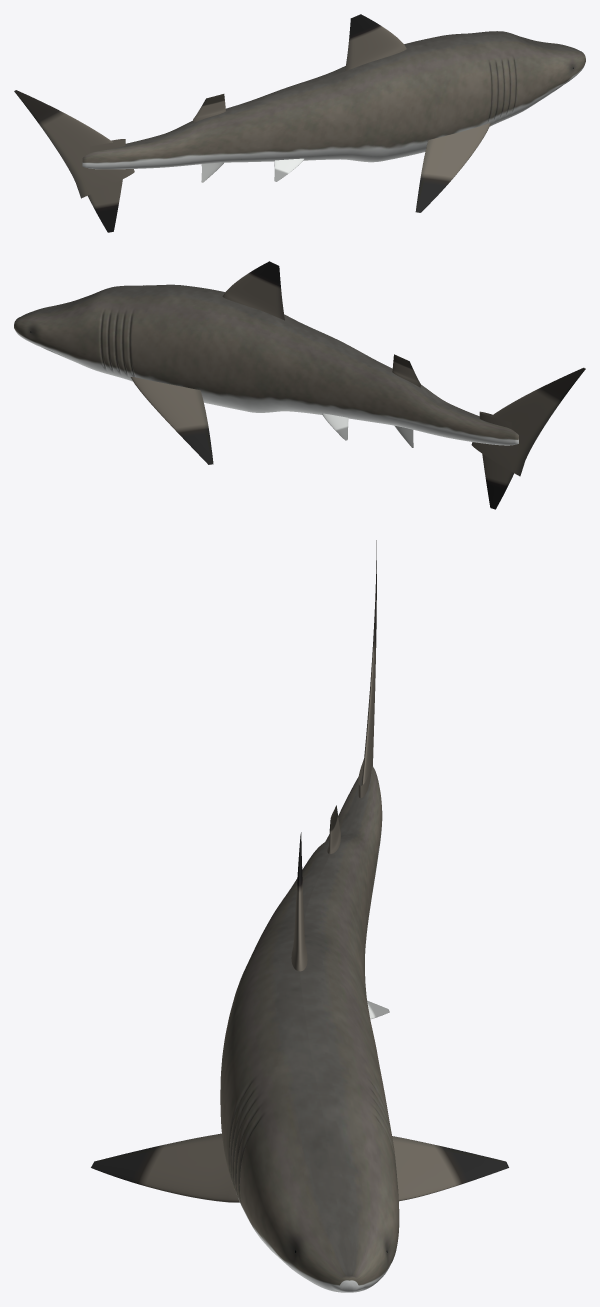
File: blacktip_shark.glb
3 renders of one model, top to bottom at view 1: azimuth 30°, elevation 25°; view 2: azimuth 150°, elevation 25°; view 3: azimuth 270°, elevation 25°, orthographic. The views are drawn at different scales.
Visible parts, largest first — view 1: blacktip_shark_Body, blacktip_shark_Fins; view 2: blacktip_shark_Body, blacktip_shark_Fins; view 3: blacktip_shark_Body, blacktip_shark_Fins.
Part boxes in pixels (left/top/right/bottom): blacktip_shark_Body: left=82, top=31, right=585, bottom=169; blacktip_shark_Fins: left=14, top=14, right=490, bottom=232; blacktip_shark_Body: left=14, top=284, right=518, bottom=445; blacktip_shark_Fins: left=130, top=261, right=585, bottom=509; blacktip_shark_Body: left=220, top=766, right=399, bottom=1292; blacktip_shark_Fins: left=91, top=540, right=508, bottom=1202.
Size of the model in its own units: 1.5 by 0.4395 by 0.4826.
3 materials, 1 textured.
